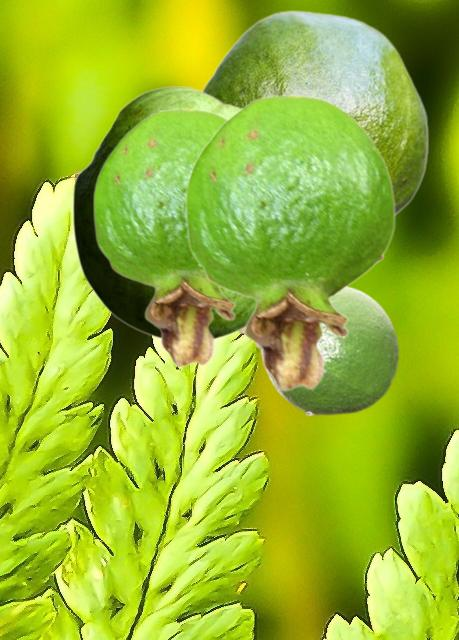guava: (184, 93, 395, 391), (202, 10, 428, 264), (72, 86, 253, 339), (92, 107, 238, 367), (238, 286, 399, 415)
